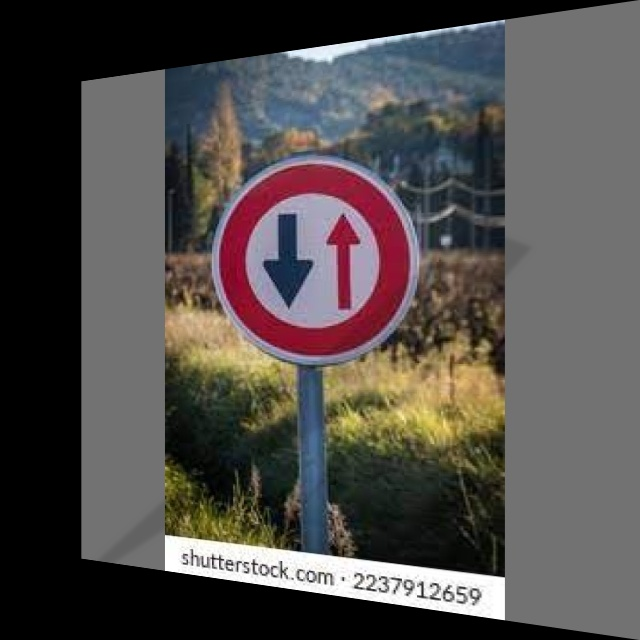Mandatory_Two_Way_Traffic: (213, 138, 435, 368)
